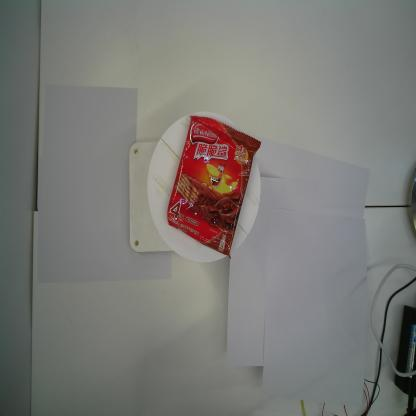Dessert: (166, 115, 262, 260)
